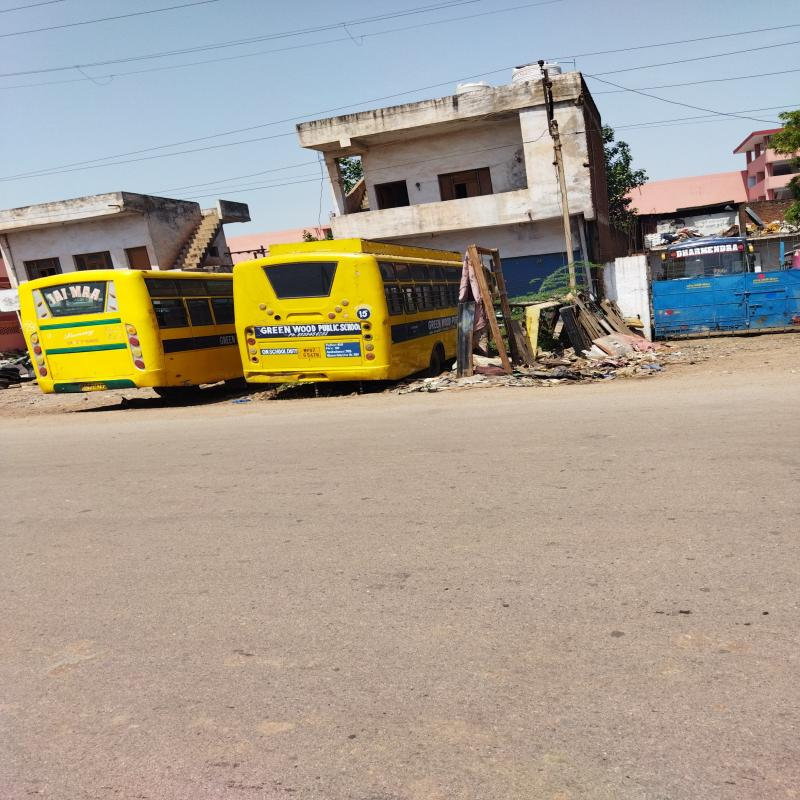bus: (231, 256, 471, 394), (9, 261, 213, 391)
